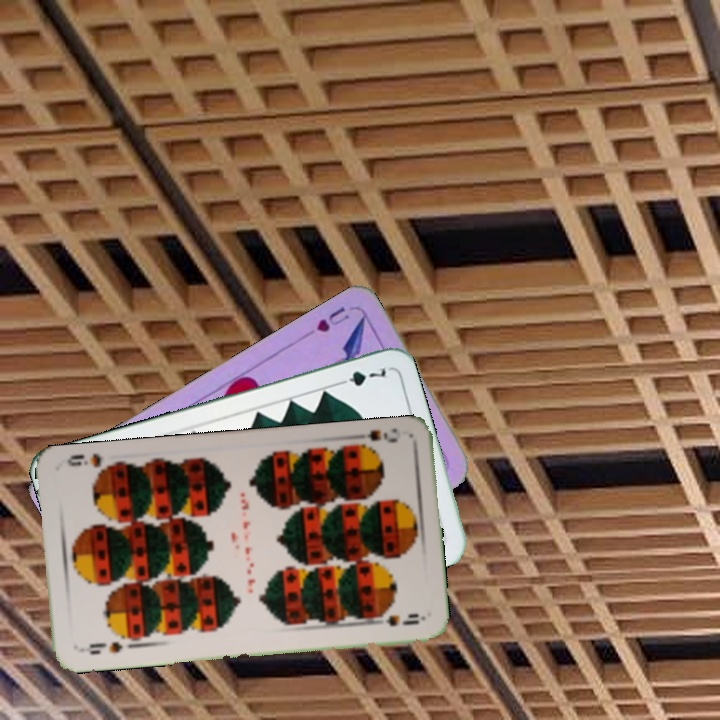G7: (332, 363, 391, 389)
HU: (312, 302, 352, 335)
S9: (348, 425, 400, 453), (85, 638, 126, 657)
